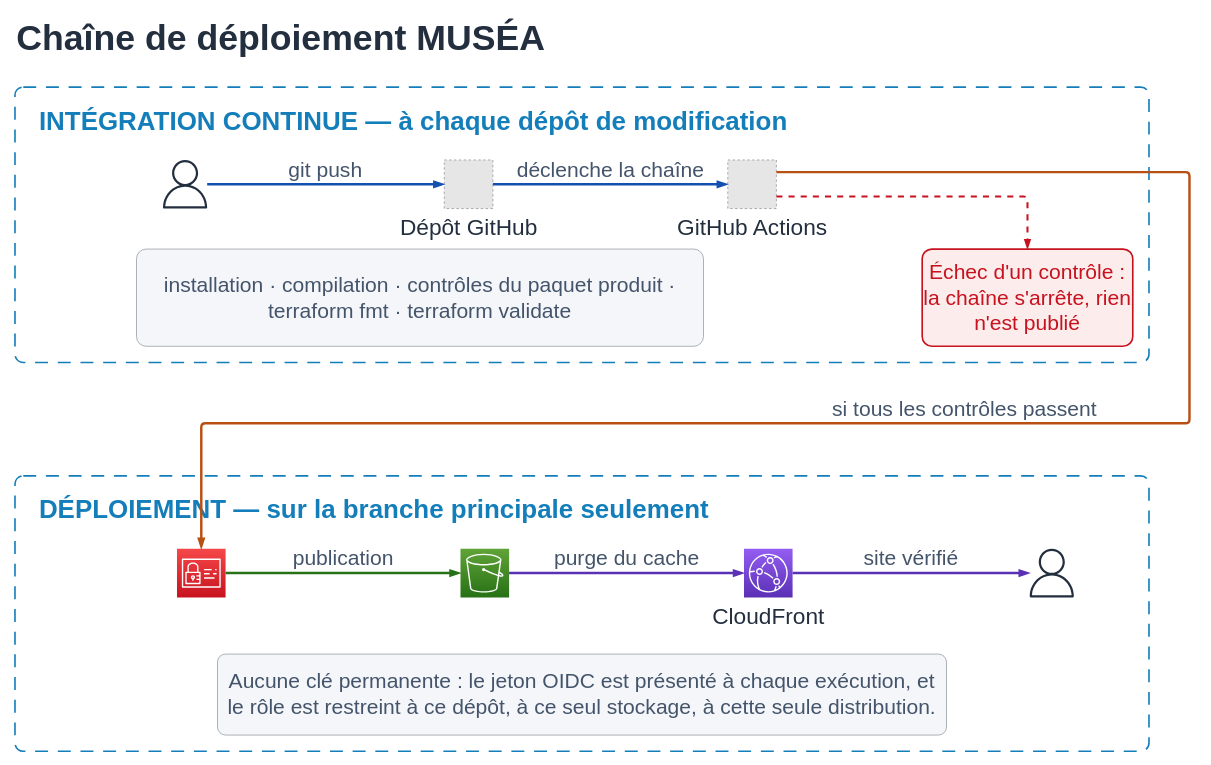
Image size: 1211x765. Some labels were removed from this diagram. Grey dashed boxes stand in for pictures. Each missing label, with the centre of its shape:
Amazon S3: (484,572)
Développeur: (184,184)
Jeton OIDC (IAM): (201,572)
Visiteur: (1051,572)
